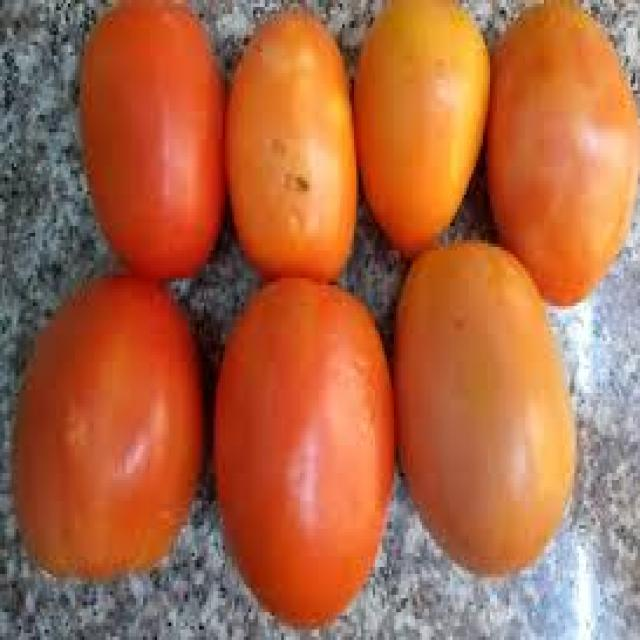Fresh_tomato: (393, 264, 607, 571), (26, 285, 219, 580), (218, 292, 384, 615), (502, 4, 628, 307), (80, 6, 214, 270), (228, 6, 352, 276), (366, 7, 490, 235)
